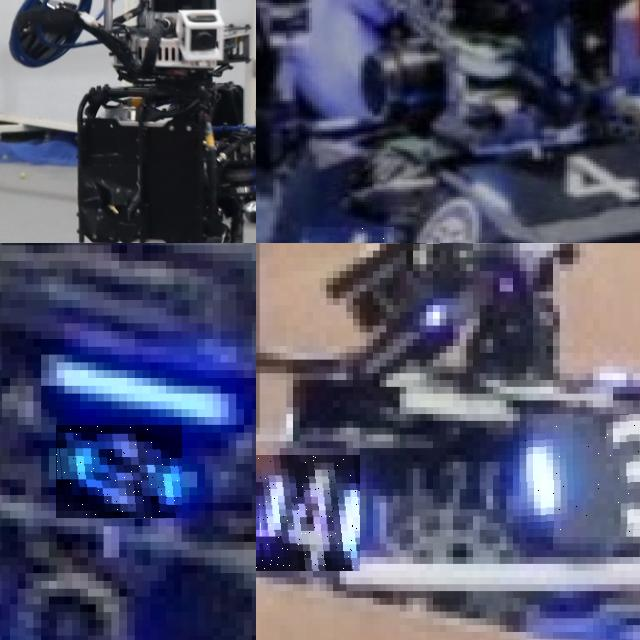B2: (56, 425, 182, 518)
B3: (519, 414, 640, 536)
B4: (256, 455, 359, 570)
